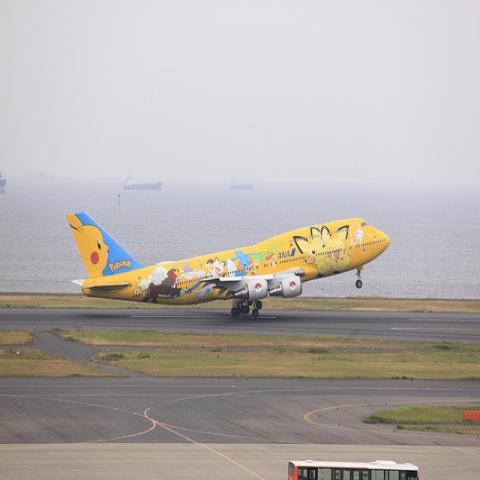bus: (287, 460, 418, 474)
